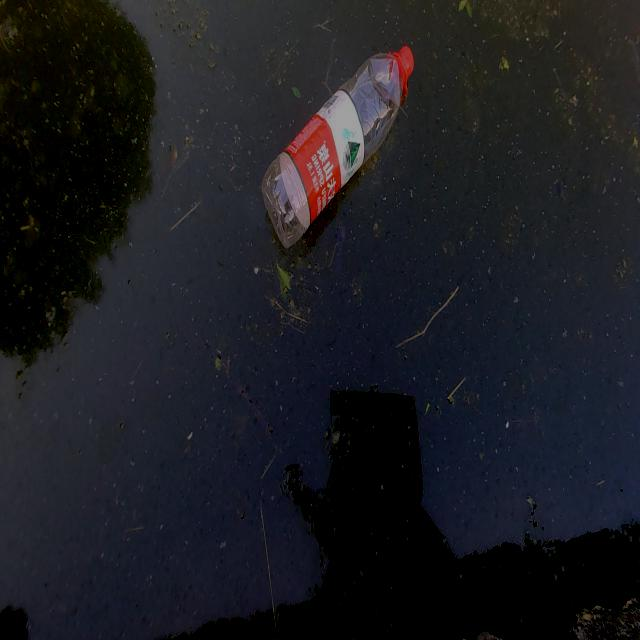bottle: (242, 13, 433, 260)
